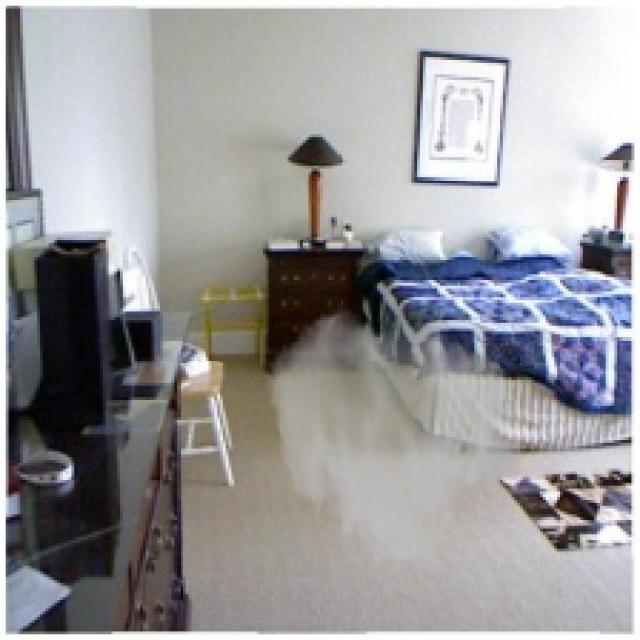smoke: (266, 306, 528, 583)
